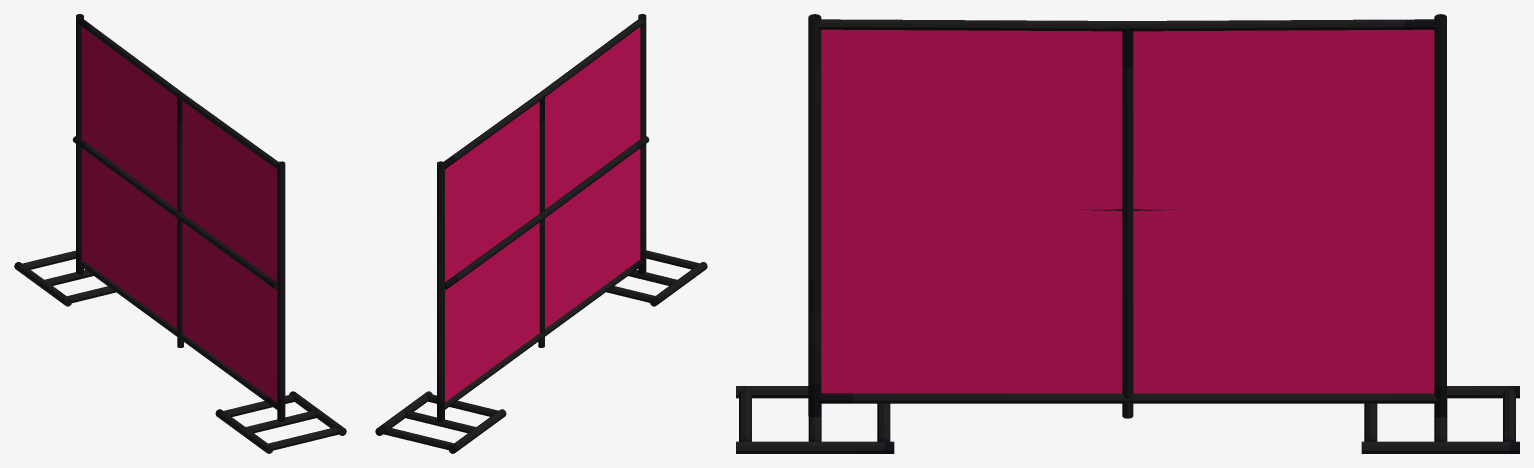
File: Construction_Fence00.fbx
The picture shows the model from 3 angles, left to right: view 1: azimuth 30°, elevation 25°; view 2: azimuth 150°, elevation 25°; view 3: azimuth 270°, elevation 25°; orthographic projection. The views are drawn at different scales.
Visible parts, largest first — view 1: SM_City_Construnction_Fence_01.mo; view 2: SM_City_Construnction_Fence_01.mo; view 3: SM_City_Construnction_Fence_01.mo.
Boxes of the visible parts, bbox=[...] form: SM_City_Construnction_Fence_01.mo: bbox=[14, 14, 346, 453]; SM_City_Construnction_Fence_01.mo: bbox=[375, 14, 707, 453]; SM_City_Construnction_Fence_01.mo: bbox=[736, 14, 1519, 453].
Bounding box in the file's own units: 68 × 212 × 369.
